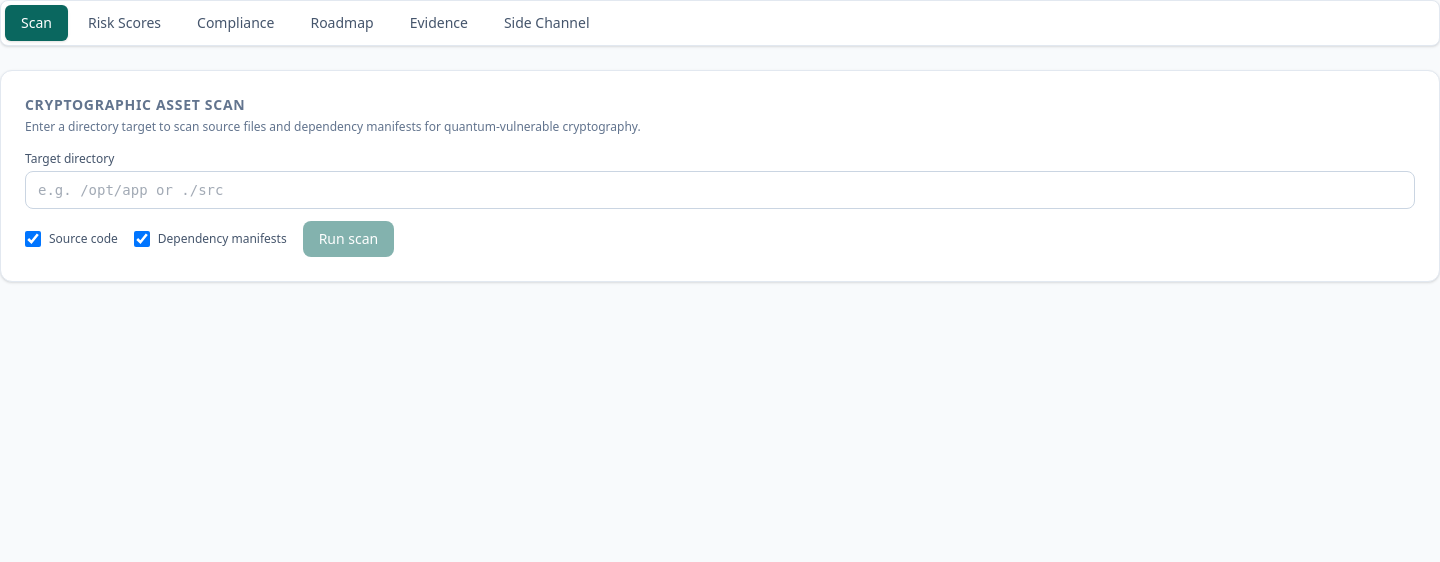
it: ScannerDashboard › sends POST /v1/scan/full when Run scan is clicked and renders the results
Type "/repo" into the field with placeholder "e.g. /opt/app or ./src" at (720, 190), box [25,171,1415,209]
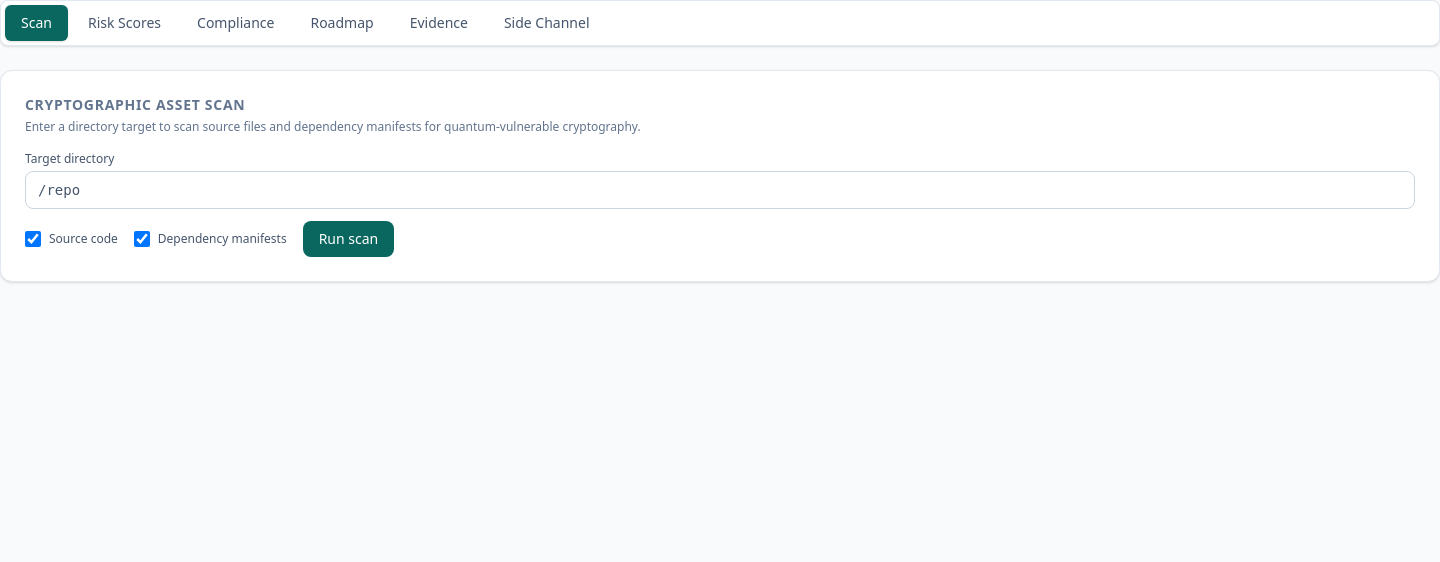
Click the button "Run scan" at (348, 239), box [303,221,394,257]
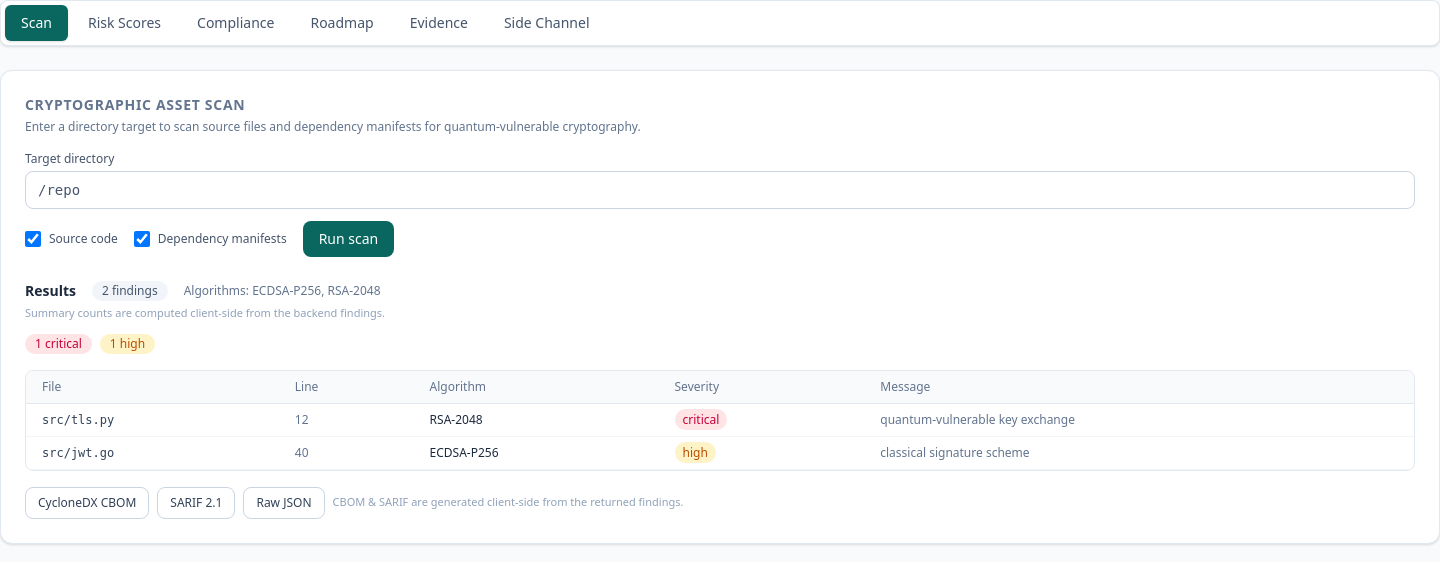
expect the heading "Results" is shown: met, box [25,281,76,301]
expect the text "2 findings" is shown: met, box [92,281,168,301]
expect the text "1 critical" is shown: met, box [25,334,92,354]
